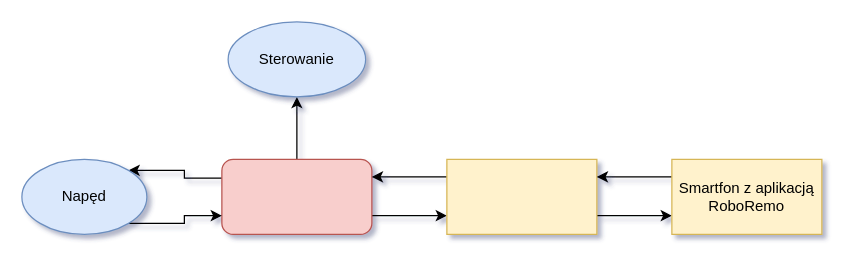
Image size: 851x264. Some labels were removed from this diagram. The box of each missing label's shape, as (x1, y1, x2, y2) in pixels:
Moduł Wi-Fi ESP8266: (446, 158, 597, 234)
Sterownik STM32: (221, 158, 372, 234)
